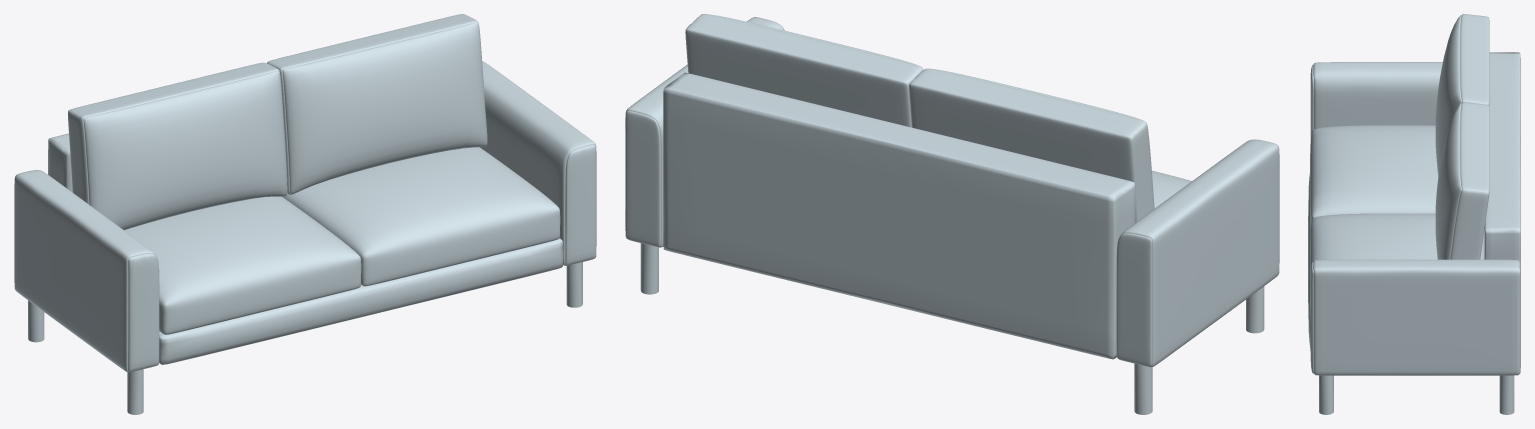
Rendered from Sofa.fbx.
3 views of the same model, side by side, from view 1: azimuth 30°, elevation 25°; view 2: azimuth 150°, elevation 25°; view 3: azimuth 270°, elevation 25° (orthographic). The views are drawn at different scales.
Parts seen in each view (by area): view 1: Sofa; view 2: Sofa; view 3: Sofa.
Part boxes in pixels (x1,y1,x2,y2): Sofa: [14, 14, 596, 414]; Sofa: [625, 14, 1279, 414]; Sofa: [1308, 14, 1520, 414].
Bounding box in the file's own units: 181 × 86.12 × 77.83.
